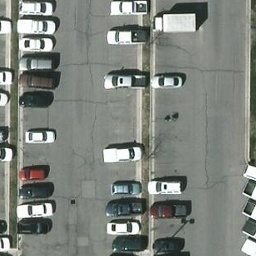car: (102, 144, 142, 162), (147, 177, 187, 195), (147, 199, 187, 217), (104, 199, 144, 217), (107, 30, 148, 45), (16, 216, 50, 234), (17, 199, 51, 217), (18, 180, 52, 198), (110, 1, 149, 16), (104, 74, 144, 88), (18, 1, 55, 16), (107, 217, 141, 233), (109, 233, 143, 249), (150, 233, 184, 249), (17, 19, 54, 33), (20, 37, 54, 51), (111, 179, 140, 195), (152, 73, 182, 88), (16, 165, 46, 178), (25, 129, 55, 142), (21, 92, 51, 105), (20, 72, 50, 85), (21, 57, 51, 70)
